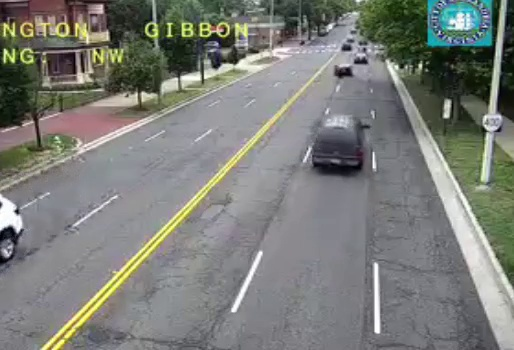car: (312, 115, 363, 168), (333, 64, 353, 78)
